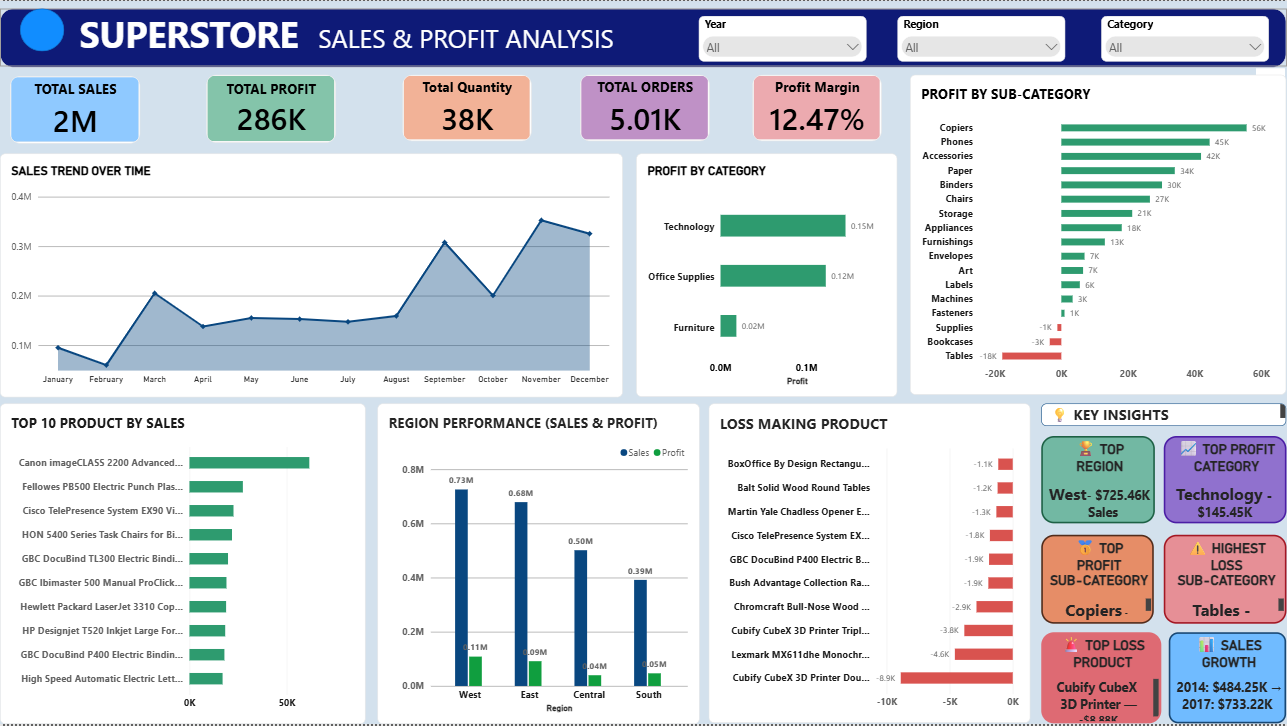

The page's visual inventory and layout, read from the dashboard file:
{"tool":"powerbi","page":{"name":"Page 1","canvas":[1920,1080],"ordinal":0},"visuals":[{"type":"textbox","box":[0,11.2,1920.1,87.7],"z":0},{"type":"shape","box":[30,12,66,64],"z":1000},{"type":"slicer","fields":{"Values":["cleaned_data.Order Date.Variation.Date Hierarchy.Year"]},"box":[1043.1,22.4,250,68],"z":2000},{"type":"slicer","fields":{"Values":["cleaned_data.Region"]},"box":[1339.7,22.4,250,68],"z":3000},{"type":"slicer","fields":{"Values":["cleaned_data.Category"]},"box":[1643.9,22.4,250,68],"z":4000},{"type":"cardVisual","fields":{"Data":["Sum(cleaned_data.Sales)"]},"box":[14.9,112,194.1,100.8],"z":5000},{"type":"cardVisual","fields":{"Data":["cleaned_data.Profit Margin"]},"box":[1123.2,110.4,192.6,99.6],"z":6000},{"type":"cardVisual","fields":{"Data":["Sum(cleaned_data.Quantity)"]},"box":[601.6,110.4,192.6,99.6],"z":7000},{"type":"cardVisual","fields":{"Data":["Count(cleaned_data.Order ID)"]},"box":[865.7,110.4,193.3,99.4],"z":8000},{"type":"cardVisual","fields":{"Data":["Sum(cleaned_data.Profit)"]},"box":[307.3,110.4,193.3,101.2],"z":9000},{"type":"lineChart","title":"SALES TREND OVER TIME","fields":{"Category":["cleaned_data.Order Date.Variation.Date Hierarchy.Month"],"Y":["Sum(cleaned_data.Sales)"]},"box":[0,227.6,929.2,363.9],"z":10000},{"type":"clusteredColumnChart","title":"REGION PERFORMANCE (SALES & PROFIT)","fields":{"Category":["cleaned_data.Region"],"Y":["Sum(cleaned_data.Sales)","Sum(cleaned_data.Profit)"]},"box":[562.7,601.6,480.4,478.3],"z":11000},{"type":"clusteredBarChart","title":"PROFIT BY CATEGORY","fields":{"Category":["cleaned_data.Category"],"Y":["Sum(cleaned_data.Profit)"]},"box":[950.1,227.2,389.5,363.6],"z":12000},{"type":"clusteredBarChart","title":"PROFIT BY SUB-CATEGORY","fields":{"Category":["cleaned_data.Sub-Category"],"Y":["Sum(cleaned_data.Profit)"]},"box":[1358.4,110.1,561.6,477.7],"z":13000},{"type":"clusteredBarChart","title":"TOP 10 PRODUCT BY SALES","fields":{"Category":["cleaned_data.Product Name"],"Y":["Sum(cleaned_data.Sales)"]},"box":[0,601.6,545.4,478.3],"z":13001},{"type":"clusteredBarChart","title":"LOSS MAKING PRODUCT","fields":{"Category":["cleaned_data.Product Name"],"Y":["Sum(cleaned_data.Profit)"]},"box":[1058.3,601.6,480,477],"z":13002},{"type":"textbox","box":[1554.3,600.8,365.7,33.6],"z":13003},{"type":"textbox","box":[100.8,253.8,298.6,145.5],"z":13004},{"type":"textbox","title":"🏆 TOP REGION","box":[1554.3,649.3,169.8,130.6],"z":13006},{"type":"textbox","box":[1640.2,990.8,82.1,61.6],"z":13011},{"type":"textbox","title":"📈 TOP PROFIT CATEGORY","box":[1737.2,649.3,182.9,130.6],"z":13012},{"type":"textbox","title":"🥇 TOP PROFIT SUB-CATEGORY","box":[1554.3,796.8,167.9,132.5],"z":13013},{"type":"textbox","title":"⚠️ HIGHEST LOSS SUB-CATEGORY","box":[1737.2,796.8,182.9,132.5],"z":13014},{"type":"textbox","title":"🚨 TOP LOSS PRODUCT","box":[1554.3,942.3,179.1,136.2],"z":13015},{"type":"textbox","title":"📊 SALES GROWTH","box":[1744.7,942.3,175.4,136.2],"z":13016}]}

Visuals, with their boxes in screenshot pixels (x1, y1, x2, y2), scaled from the page's 1920x1080 canvas onto the 1287x726 screenshot:
textbox: 0,8,1286,66
shape: 20,8,64,51
slicer - cleaned_data.Order Date.Variation.Date Hierarchy.Year: 699,15,867,61
slicer - cleaned_data.Region: 898,15,1066,61
slicer - cleaned_data.Category: 1102,15,1270,61
cardVisual - Sum(cleaned_data.Sales): 10,75,140,143
cardVisual - cleaned_data.Profit Margin: 753,74,882,141
cardVisual - Sum(cleaned_data.Quantity): 403,74,532,141
cardVisual - Count(cleaned_data.Order ID): 580,74,710,141
cardVisual - Sum(cleaned_data.Profit): 206,74,336,142
"SALES TREND OVER TIME" lineChart: 0,153,623,398
"REGION PERFORMANCE (SALES & PROFIT)" clusteredColumnChart: 377,404,699,725
"PROFIT BY CATEGORY" clusteredBarChart: 637,153,898,397
"PROFIT BY SUB-CATEGORY" clusteredBarChart: 911,74,1286,395
"TOP 10 PRODUCT BY SALES" clusteredBarChart: 0,404,366,725
"LOSS MAKING PRODUCT" clusteredBarChart: 709,404,1031,725
textbox: 1042,404,1286,426
textbox: 68,171,268,268
"🏆 TOP REGION" textbox: 1042,436,1156,524
textbox: 1099,666,1154,707
"📈 TOP PROFIT CATEGORY" textbox: 1164,436,1286,524
"🥇 TOP PROFIT SUB-CATEGORY" textbox: 1042,536,1154,625
"⚠️ HIGHEST LOSS SUB-CATEGORY" textbox: 1164,536,1286,625
"🚨 TOP LOSS PRODUCT" textbox: 1042,633,1162,725
"📊 SALES GROWTH" textbox: 1169,633,1286,725
